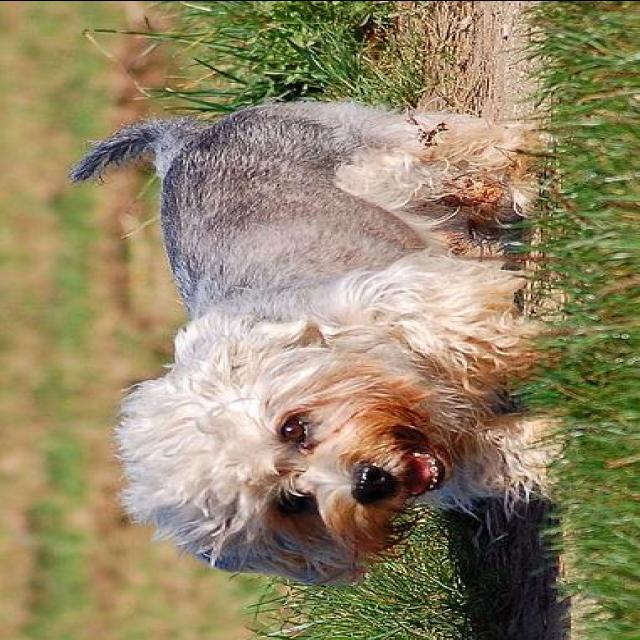dandie_dinmont: (66, 102, 566, 588)
